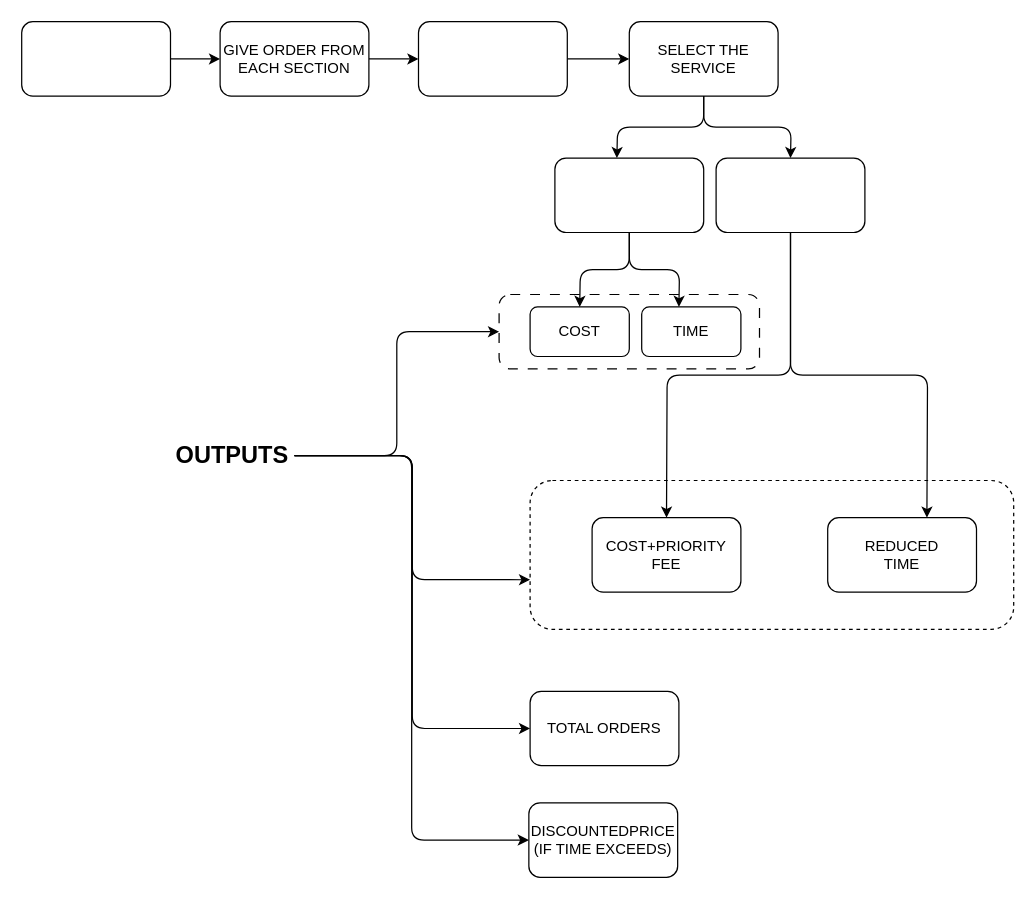
The diagram is 1035 pixels wide and 899 high, and some of its shapes have lost their labels. Each missing label, with the box of its shape:
CUSTOMER: (20, 20, 170, 96)
GIVE PRIORITY (1,2AND 3) FOR EACH SECTION: (417, 20, 567, 96)
NORMAL SERVICE: (554, 157, 704, 232)
PRIORITY SERVICE: (715, 157, 865, 232)
